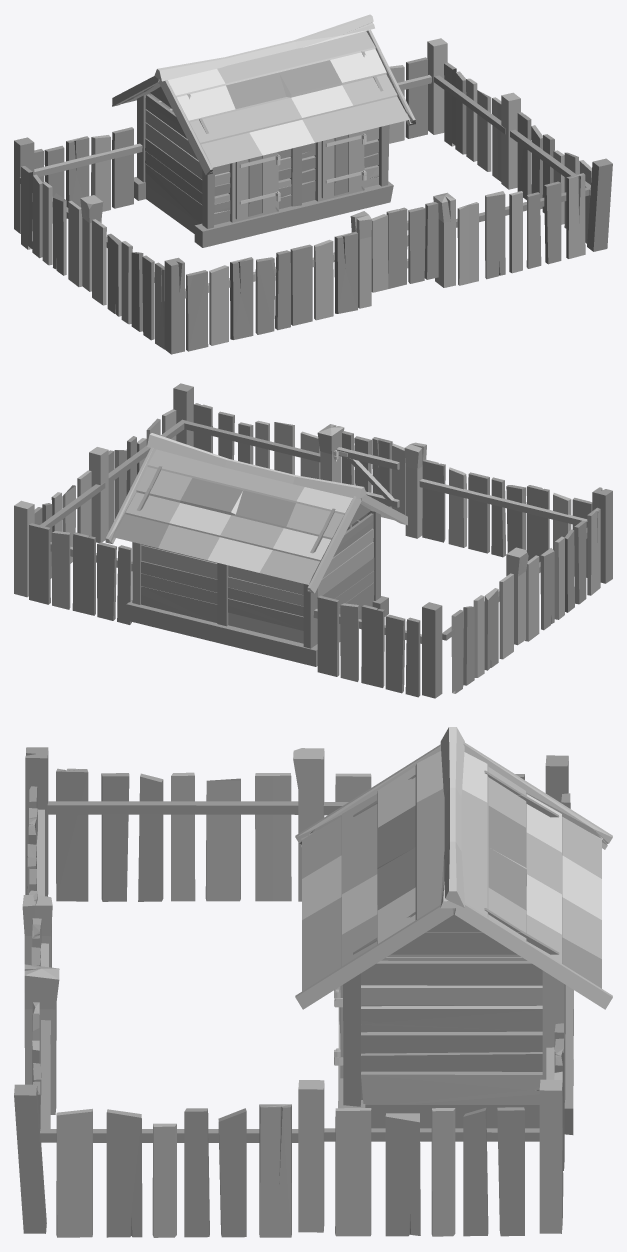
File: PT_Pig_Sty_01.fbx
The picture shows the model from 3 angles, top to bottom: view 1: azimuth 30°, elevation 25°; view 2: azimuth 150°, elevation 25°; view 3: azimuth 270°, elevation 25°; orthographic projection. The views are drawn at different scales.
Visible parts, largest first — view 1: PT_Pig_Sty_Pen_02, PT_Pig_Sty_Roof_01, PT_Pig_Sty_01, PT_Pig_Sty_Pen_Gate_01, PT_Pig_Sty_Foundation_01, PT_Pig_Sty_Door_02, PT_Pig_Sty_Door_01; view 2: PT_Pig_Sty_Pen_02, PT_Pig_Sty_Roof_01, PT_Pig_Sty_01, PT_Pig_Sty_Foundation_01, PT_Pig_Sty_Pen_Gate_01; view 3: PT_Pig_Sty_Pen_02, PT_Pig_Sty_Roof_01, PT_Pig_Sty_01, PT_Pig_Sty_Foundation_01.
Boxes of the visible parts, bbox=[...] form: PT_Pig_Sty_Pen_02: bbox=[14, 38, 612, 354]; PT_Pig_Sty_Roof_01: bbox=[112, 14, 415, 175]; PT_Pig_Sty_01: bbox=[137, 51, 389, 228]; PT_Pig_Sty_Pen_Gate_01: bbox=[371, 202, 438, 292]; PT_Pig_Sty_Foundation_01: bbox=[134, 177, 393, 247]; PT_Pig_Sty_Door_02: bbox=[321, 131, 366, 198]; PT_Pig_Sty_Door_01: bbox=[235, 152, 280, 219]; PT_Pig_Sty_Pen_02: bbox=[14, 383, 612, 698]; PT_Pig_Sty_Roof_01: bbox=[105, 433, 407, 593]; PT_Pig_Sty_01: bbox=[132, 466, 380, 648]; PT_Pig_Sty_Foundation_01: bbox=[126, 596, 388, 666]; PT_Pig_Sty_Pen_Gate_01: bbox=[333, 431, 405, 515]; PT_Pig_Sty_Pen_02: bbox=[14, 747, 570, 1237]; PT_Pig_Sty_Roof_01: bbox=[295, 727, 612, 1009]; PT_Pig_Sty_01: bbox=[334, 770, 565, 1106]; PT_Pig_Sty_Foundation_01: bbox=[338, 985, 573, 1134].
Bounding box in the file's own units: 945 × 341 × 693.
Materials: 1 (1 with a texture image).
